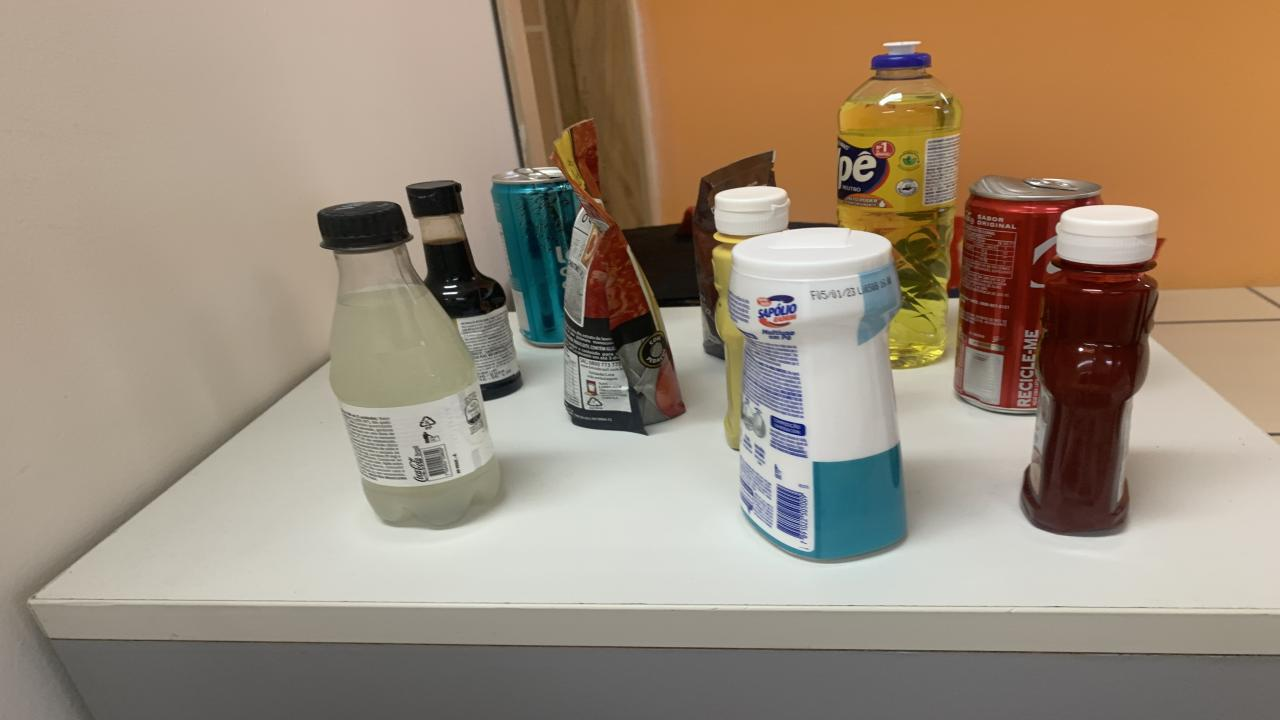Cleaner-Cleanup_Items: (728, 229, 908, 561)
Coffee-Pantry_Items: (692, 150, 775, 358)
Coke-Drinks: (955, 174, 1102, 412)
Detergent-Cleanup_Items: (838, 41, 962, 368)
English_Sauce-Pantry_Items: (408, 180, 522, 399)
Ketchup-Pantry_Items: (1020, 204, 1158, 534)
Mustard-Pantry_Items: (712, 186, 790, 448)
Soda-Drinks: (330, 242, 500, 527), (320, 204, 405, 246)
Tea-Drinks: (492, 169, 578, 347)
Tomato_Sauce-Pantry_Items: (555, 120, 685, 433)
